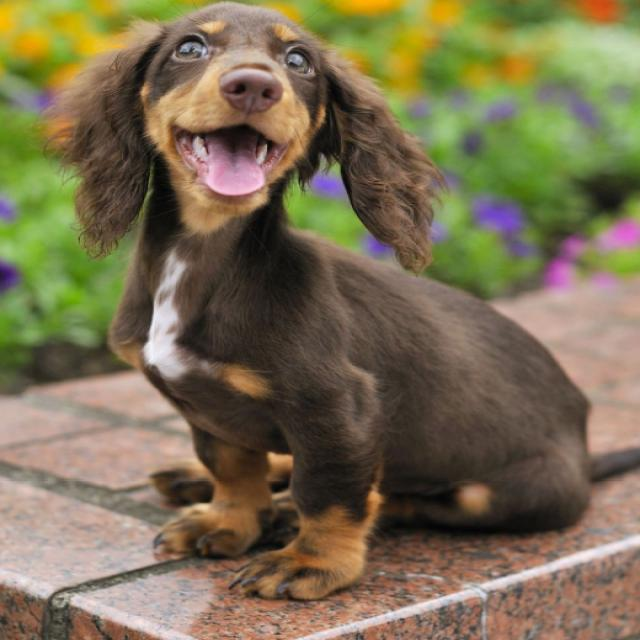dogs: (69, 2, 640, 606)
